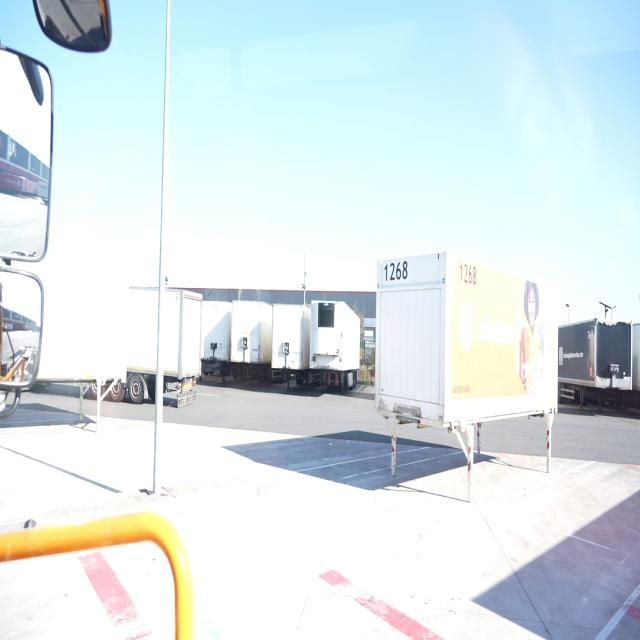Code: (379, 256, 412, 290), (455, 255, 480, 290)
